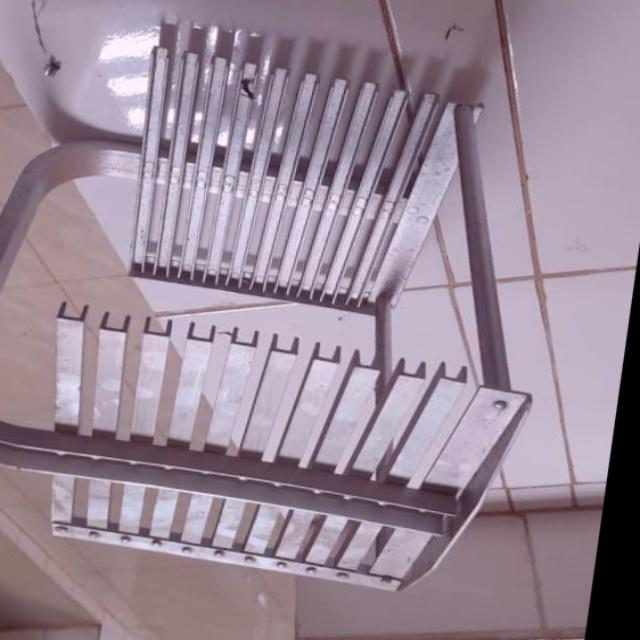Plate Rack: (0, 4, 589, 618)
